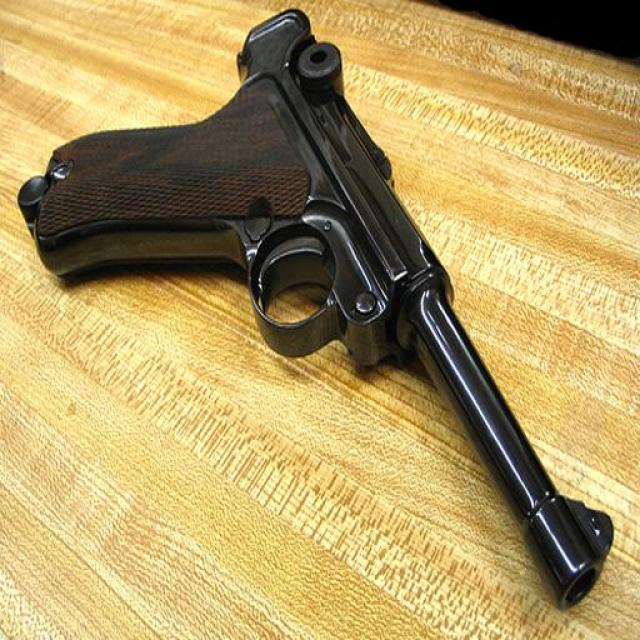pistol: (16, 5, 607, 606)
